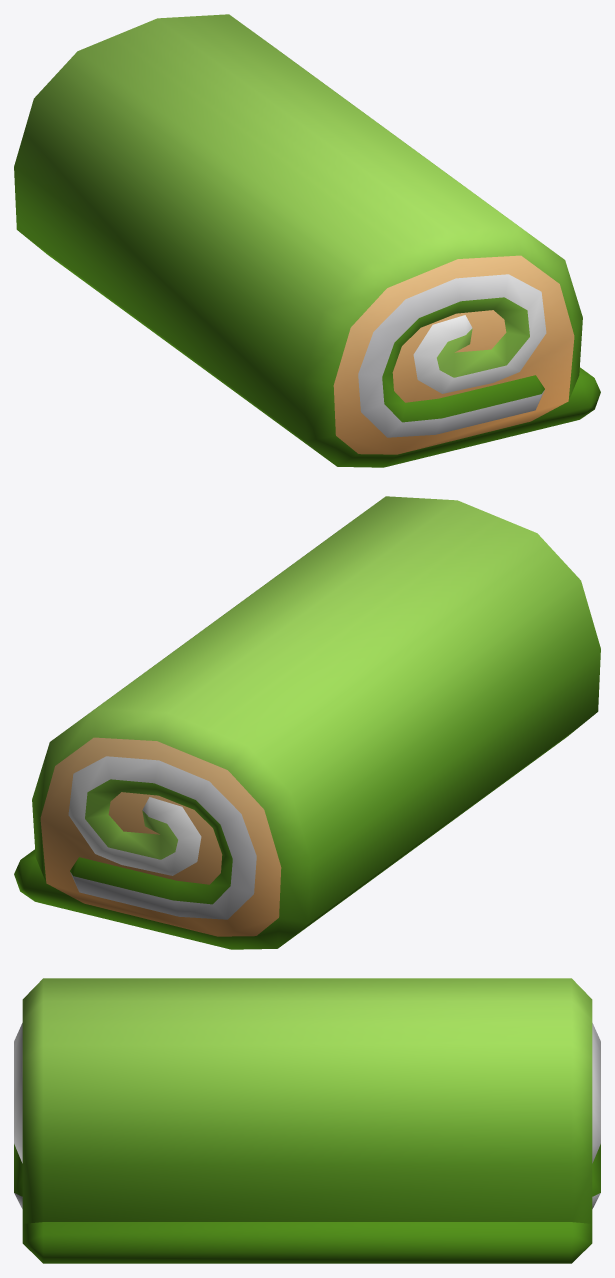
The model's file is m_BiscuitRoll04.fbx.
The picture shows the model from 3 angles, top to bottom: view 1: azimuth 30°, elevation 25°; view 2: azimuth 150°, elevation 25°; view 3: azimuth 270°, elevation 25°; orthographic projection. The views are drawn at different scales.
Parts seen in each view (by area): view 1: m_BiscuitRoll04; view 2: m_BiscuitRoll04; view 3: m_BiscuitRoll04.
Boxes of the visible parts, box(x1,y1,x2,y2) form: m_BiscuitRoll04: box(14, 14, 600, 467); m_BiscuitRoll04: box(14, 496, 600, 949); m_BiscuitRoll04: box(14, 978, 600, 1263).
Size of the model in its own units: 10.68 by 7.61 by 20.
